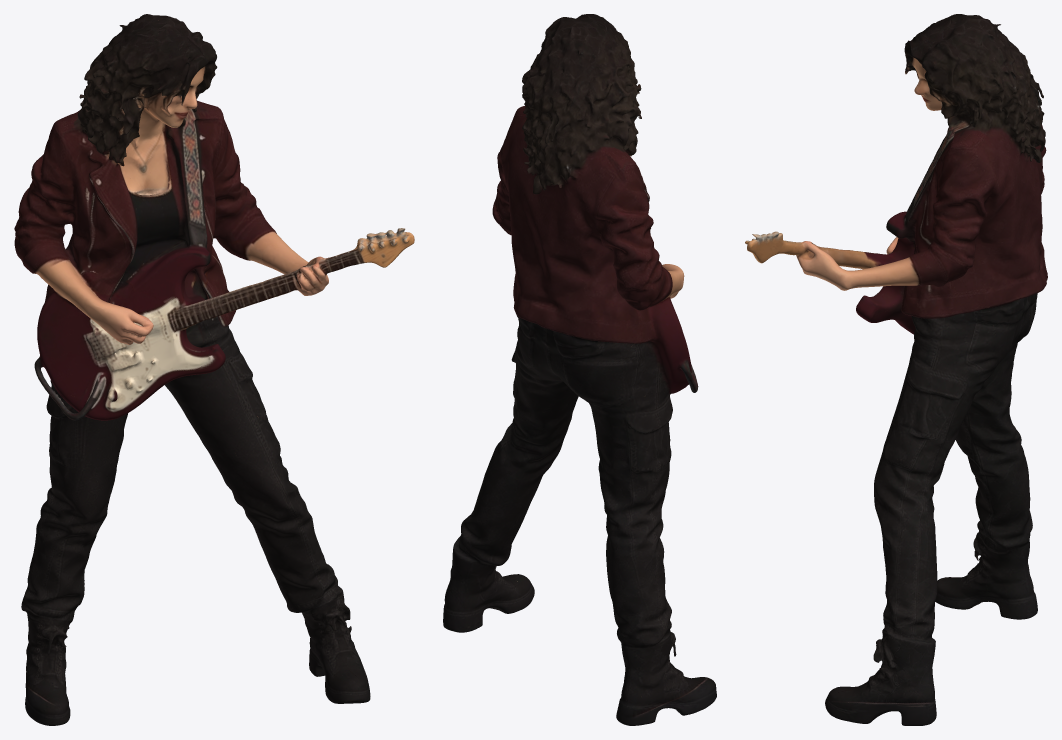
The model's file is musician_pose1.glb.
3 views of the same model, side by side, from view 1: azimuth 30°, elevation 25°; view 2: azimuth 150°, elevation 25°; view 3: azimuth 270°, elevation 25° (orthographic). The views are drawn at different scales.
Bounding box in the file's own units: 0.8543 × 1.89 × 0.8166.
1 material, 1 textured.
